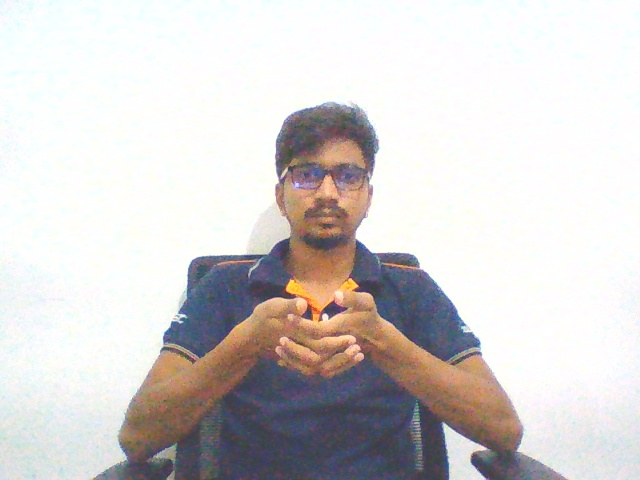mangosteen: (233, 283, 388, 384)
